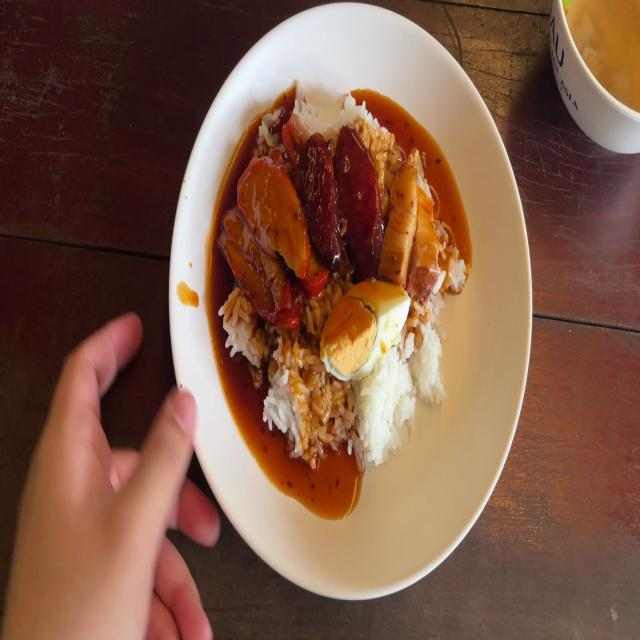01boiled_egg: (323, 277, 410, 378)
01chainese_sausage: (301, 131, 381, 261), (339, 142, 381, 262), (308, 136, 336, 262)
01crispy_pork: (383, 152, 438, 293)
01red_pork: (226, 158, 312, 315), (244, 153, 323, 280), (226, 215, 290, 318)
01red_pork_and_crispy_pork: (225, 88, 462, 466)
01rice: (361, 354, 420, 453), (268, 341, 327, 433), (213, 282, 266, 369), (413, 303, 438, 399)
